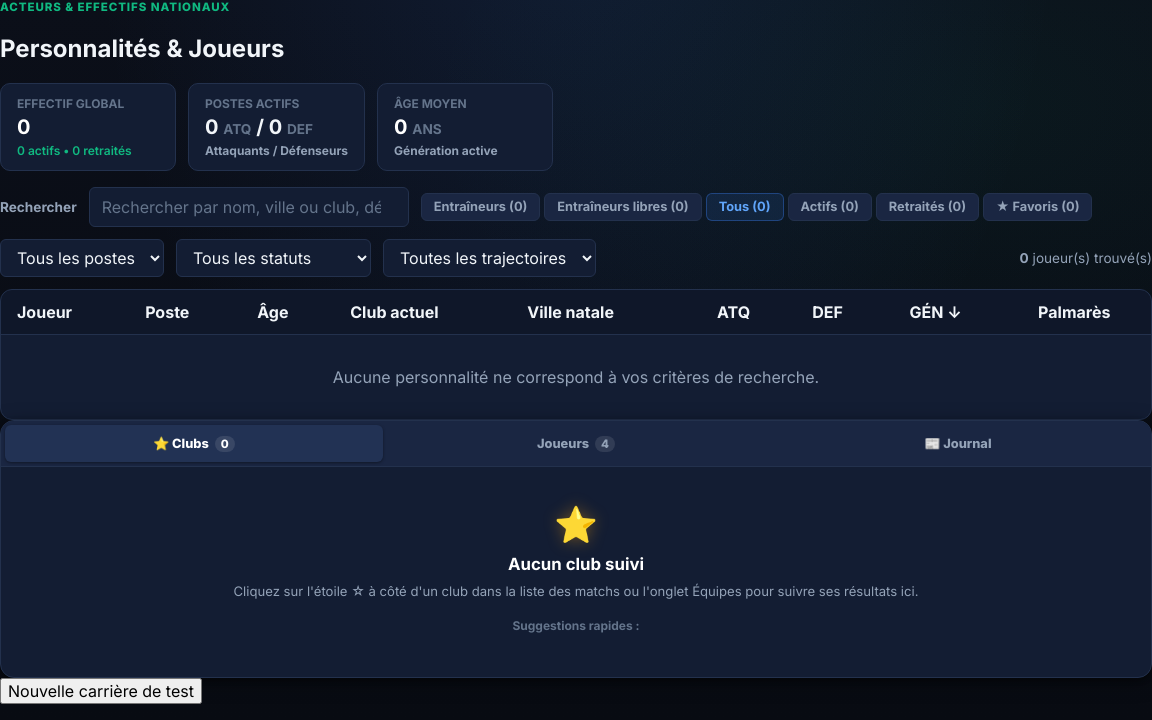
counts only real participation, deduplicates matches and shows loans and retirement
Click the button with aria-label "Joueurs suivis": click(576, 444) [387, 425, 765, 462]
(page scrolled)
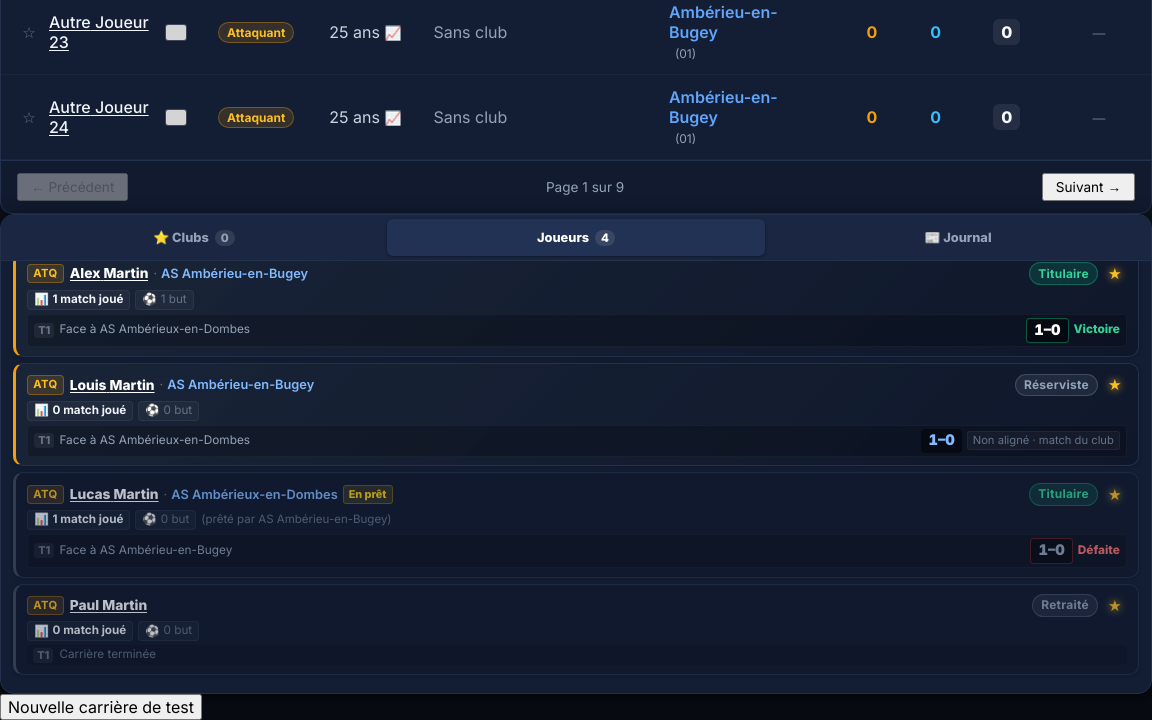
Now the text "1 match joué" next to "1 but" is shown, box [53, 292, 123, 306]
Now the text "1 but" is shown, box [161, 292, 187, 308]
Now the text "Réserviste" is shown, box [1015, 374, 1098, 396]
